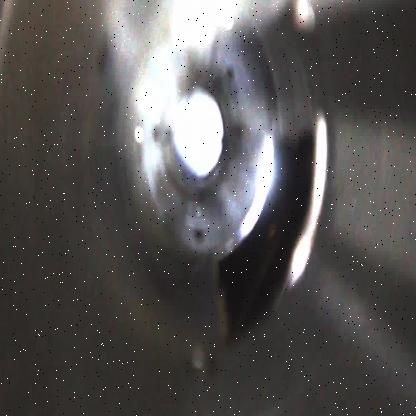Crack2: (210, 125, 320, 349)
